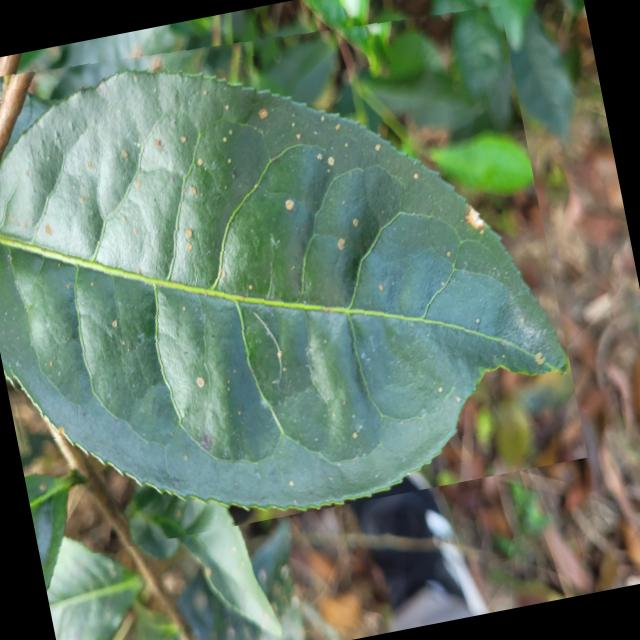Category D(7+ days, Not for Tea): (0, 0, 588, 562)
